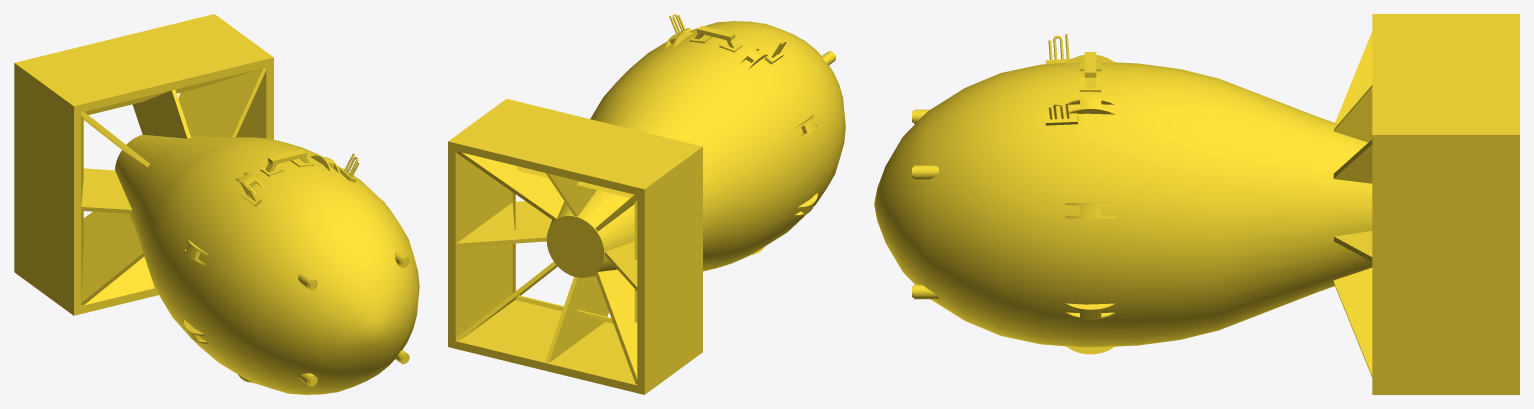
The model's file is neclear.glb.
3 renders of one model, left to right at view 1: azimuth 30°, elevation 25°; view 2: azimuth 150°, elevation 25°; view 3: azimuth 270°, elevation 25°, orthographic. The views are drawn at different scales.
Parts seen in each view (by area): view 1: object_0; view 2: object_0; view 3: object_0.
Part boxes in pixels (x1=…): object_0: x1=14, y1=14, x2=419, y2=394; object_0: x1=448, y1=14, x2=845, y2=394; object_0: x1=874, y1=14, x2=1519, y2=394.
Bounding box in the file's own units: 1.3 × 1.36 × 2.93.
